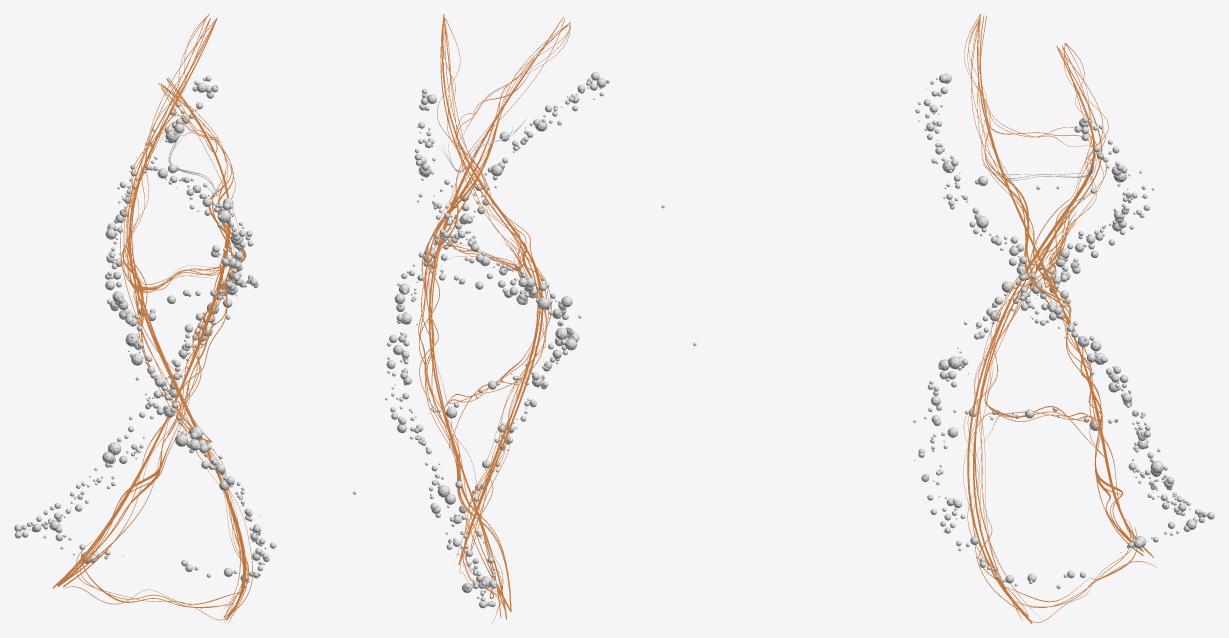
The model's file is DNA_5.glb.
3 renders of one model, left to right at view 1: azimuth 30°, elevation 25°; view 2: azimuth 150°, elevation 25°; view 3: azimuth 270°, elevation 25°, orthographic. The views are drawn at different scales.
Visible parts, largest first — view 1: NurbsPath.014; view 2: NurbsPath.014; view 3: NurbsPath.014.
Part boxes in pixels (left/top/right/bottom): NurbsPath.014: left=52, top=14, right=252, bottom=623; NurbsPath.014: left=418, top=14, right=570, bottom=623; NurbsPath.014: left=963, top=14, right=1157, bottom=623.
Bounding box in the file's own units: 5.37 × 18.65 × 15.14.
